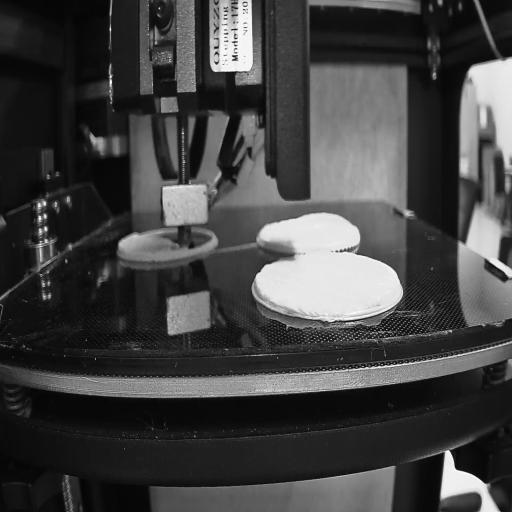over_extrusion: (255, 270, 269, 302), (160, 234, 180, 250)
